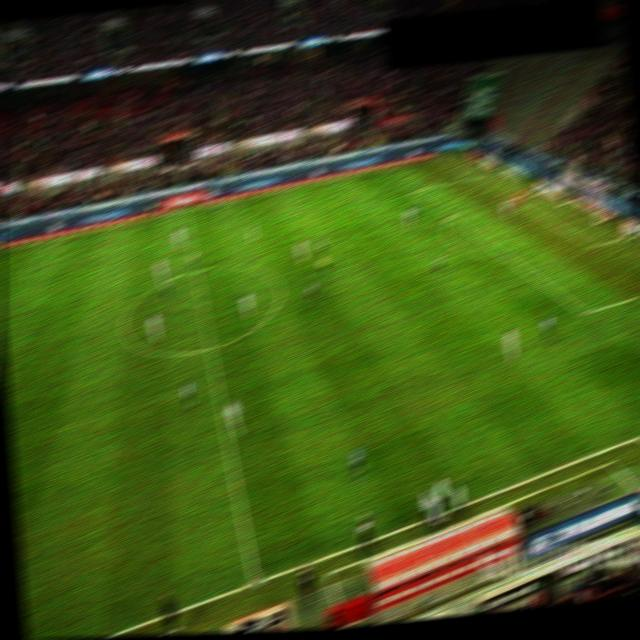bigarea_bottom_inner: (576, 308, 593, 319)
bigarea_top_inner: (404, 185, 421, 198)
bigarea_top_outter: (488, 167, 504, 179)
bottom_arc_area_intersection: (500, 253, 516, 264)
corner: (448, 148, 464, 160)
halfcircle_bottom: (201, 341, 217, 353)
halfcircle_top: (187, 263, 203, 276)
midline_bottom_intersection: (244, 574, 264, 590)
midline_top_intersection: (177, 204, 193, 217)
smallarea_bottom_inner: (585, 238, 602, 250)
smallarea_bottom_outter: (622, 231, 639, 242)
smallarea_top_inner: (499, 192, 516, 205)
smallarea_top_outter: (528, 186, 545, 198)
top_arc_area_intersection: (442, 212, 458, 224)
